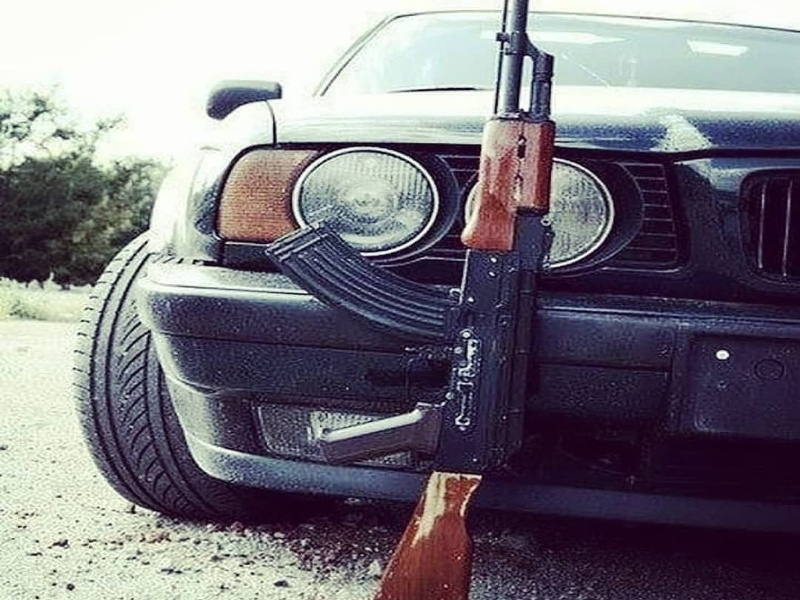car: (69, 1, 800, 534)
weapon: (318, 1, 554, 600)
